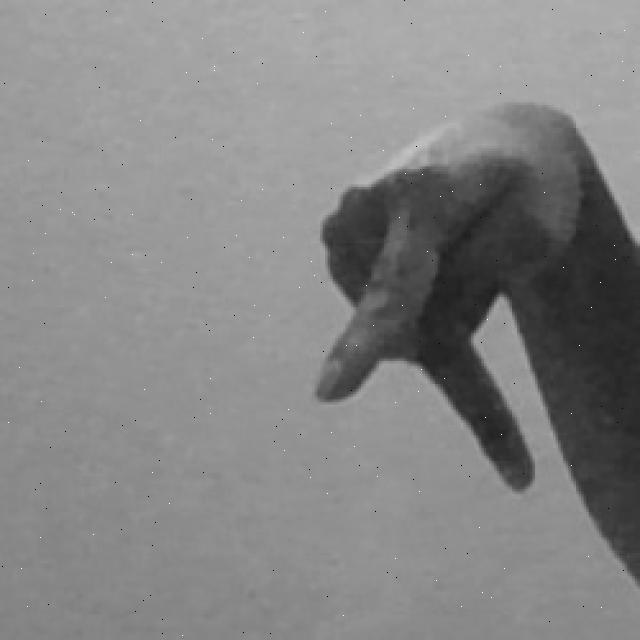P: (310, 90, 640, 588)
